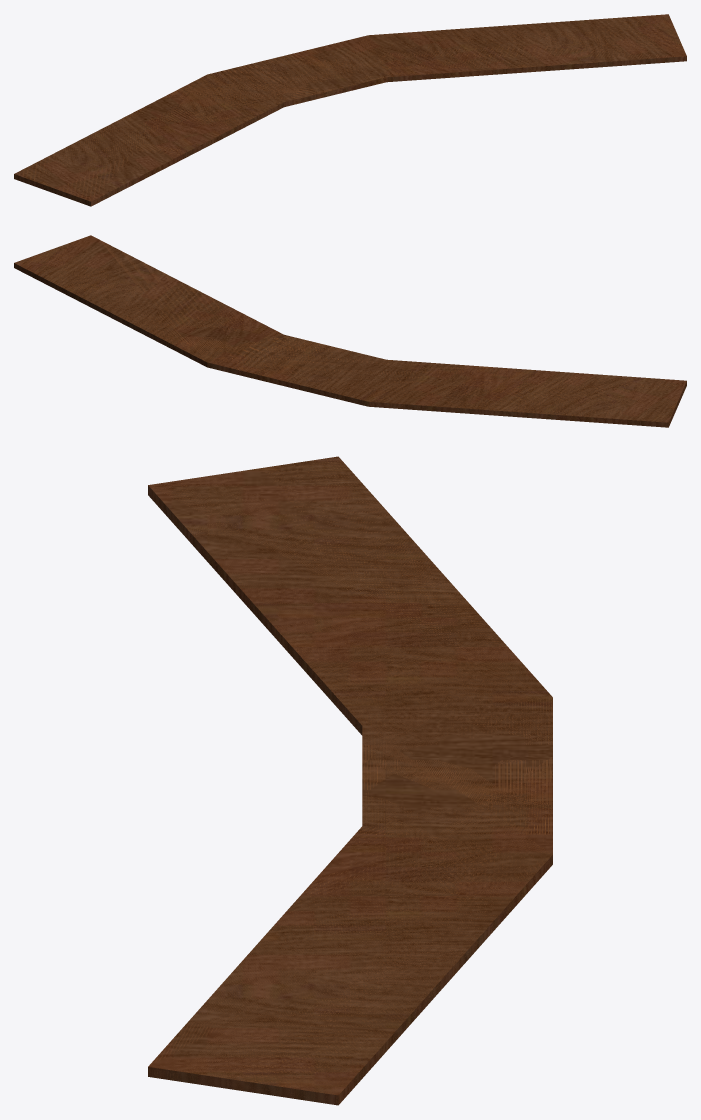
Rendered from MesaSeguranca.dae.
3 views of the same model, one above another, from view 1: azimuth 30°, elevation 25°; view 2: azimuth 150°, elevation 25°; view 3: azimuth 270°, elevation 25° (orthographic). The views are drawn at different scales.
Visible parts, largest first — view 1: instance_0; view 2: instance_0; view 3: instance_0.
Part boxes in pixels (left/top/right/bottom): instance_0: left=14, top=14, right=686, bottom=206; instance_0: left=14, top=235, right=686, bottom=427; instance_0: left=148, top=456, right=552, bottom=1105.
Size of the model in its own units: 161 by 43.24 by 1.18.
2 materials, 2 textured.
